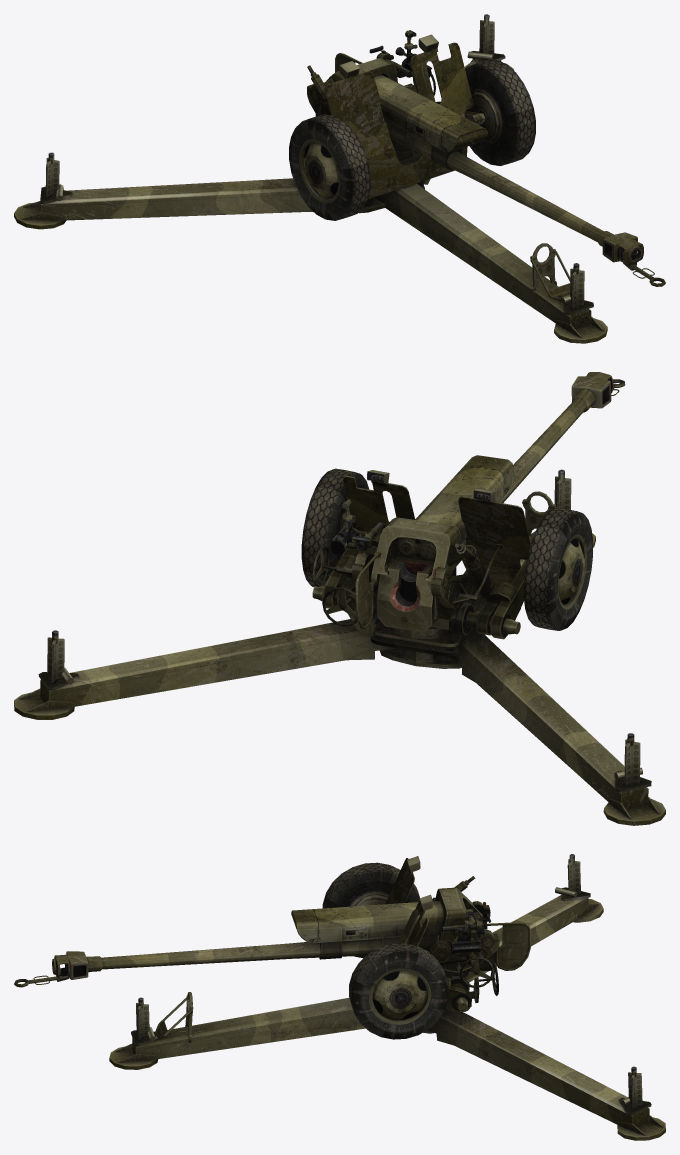
The picture shows the model from 3 angles, top to bottom: view 1: azimuth 30°, elevation 25°; view 2: azimuth 150°, elevation 25°; view 3: azimuth 270°, elevation 25°; orthographic projection. The views are drawn at different scales.
Visible parts, largest first — view 1: Body; view 2: Body; view 3: Body.
Boxes of the visible parts, bbox=[...] form: Body: bbox=[14, 14, 665, 343]; Body: bbox=[14, 372, 665, 825]; Body: bbox=[14, 854, 665, 1140].
Size of the model in its own units: 7.52 by 2.48 by 8.68.
1 material, 1 textured.
